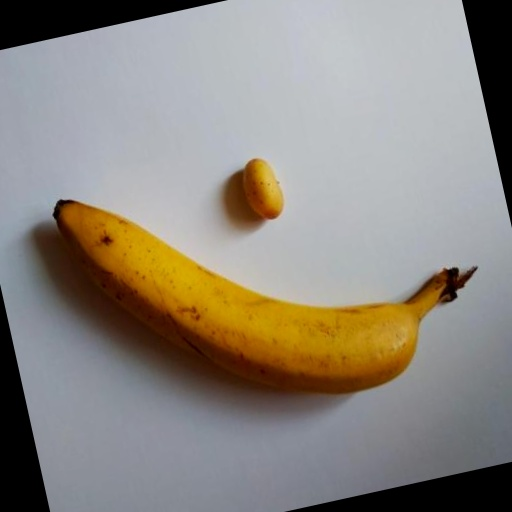fruit: (95, 70, 400, 336), (0, 103, 132, 363)
